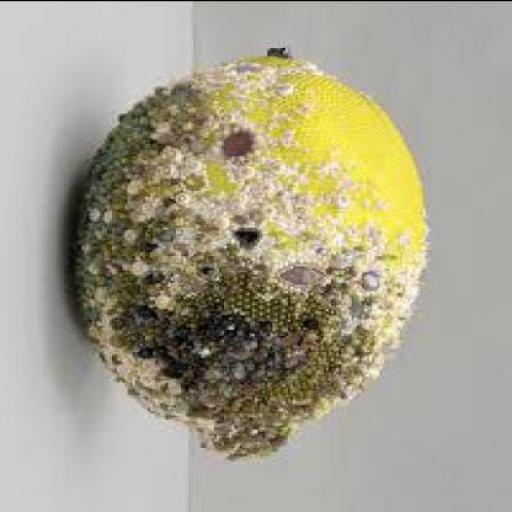biodegradable: (72, 47, 434, 461)
